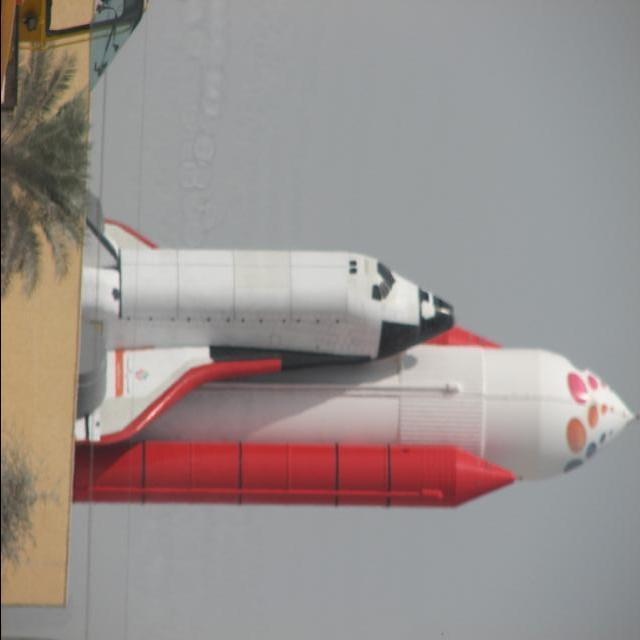Missile: (110, 244, 474, 361), (87, 428, 534, 513)
